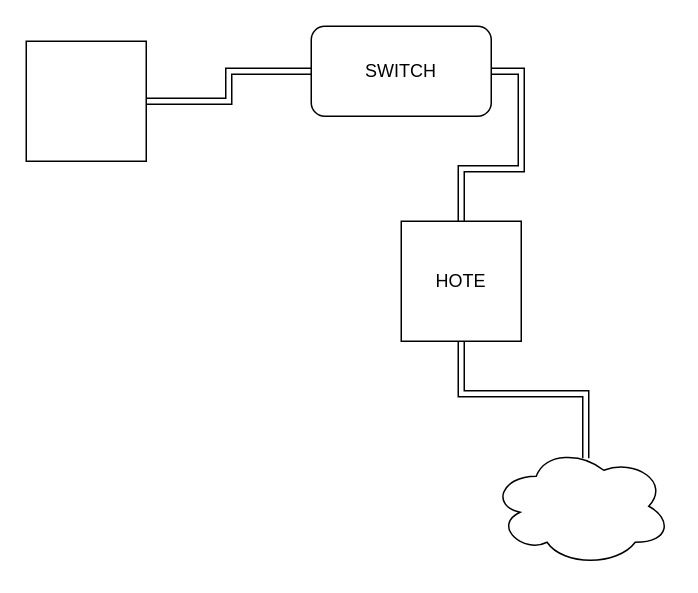
The diagram is 698 pixels wide and 593 high, and some of its shapes have lost their labels. The centre of each missing label's shape, as x and y in pixels:
"Internet" goes at point (580, 505).
"VM" goes at point (85, 100).
